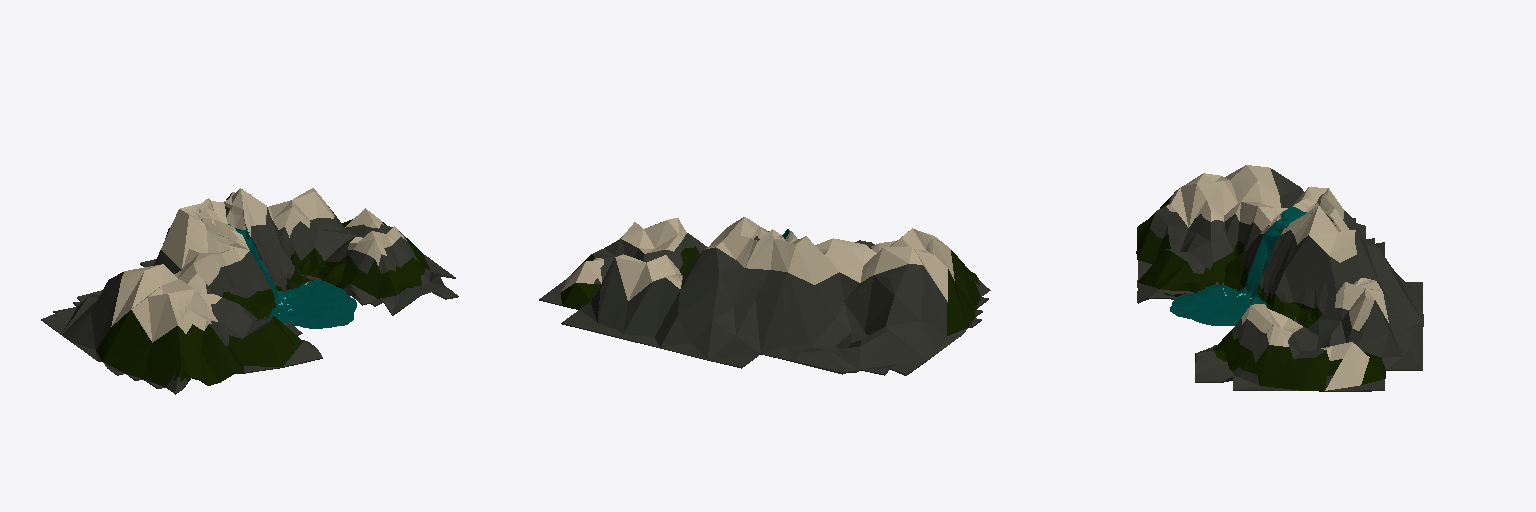
File: berg.obj
3 renders of one model, left to right at view 1: azimuth 30°, elevation 25°; view 2: azimuth 150°, elevation 25°; view 3: azimuth 270°, elevation 25°, orthographic.
Parts seen in each view (by area): view 1: Plane; view 2: Plane; view 3: Plane.
Boxes of the visible parts, x1=… form: Plane: x1=41, y1=188, x2=458, y2=394; Plane: x1=539, y1=217, x2=990, y2=375; Plane: x1=1136, y1=165, x2=1423, y2=391.
Bounding box in the file's own units: 5.07 × 1.44 × 3.55.